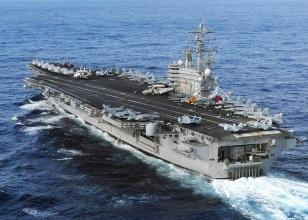warship: (23, 16, 304, 180)
